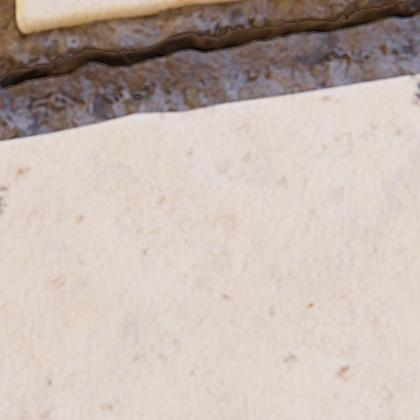brick: (0, 75, 419, 419), (17, 0, 240, 33)
crack: (0, 0, 419, 90)
